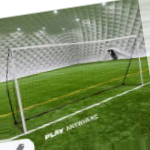goals: (3, 32, 148, 133)
